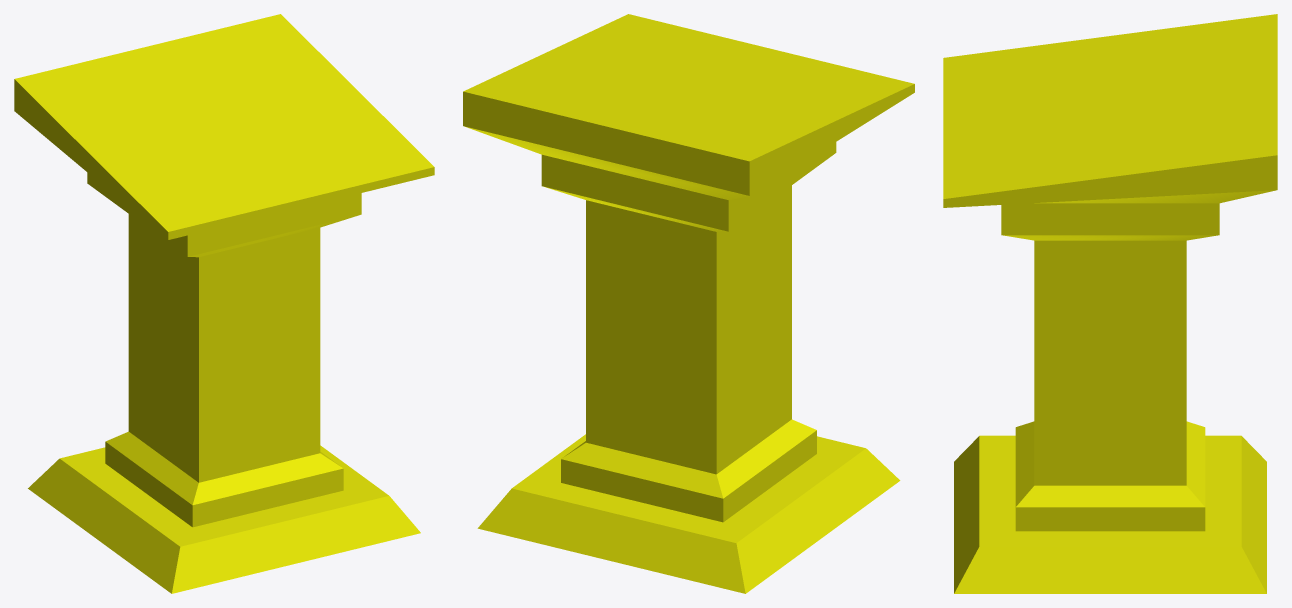
Rendered from Podium.fbx.
3 views of the same model, side by side, from view 1: azimuth 30°, elevation 25°; view 2: azimuth 150°, elevation 25°; view 3: azimuth 270°, elevation 25° (orthographic). The views are drawn at different scales.
Parts seen in each view (by area): view 1: Podium; view 2: Podium; view 3: Podium.
Part boxes in pixels (x1,y1,x2,y2): Podium: [14, 14, 434, 593]; Podium: [463, 14, 914, 593]; Podium: [943, 14, 1277, 593].
Size of the model in its own units: 108 by 158 by 108.
